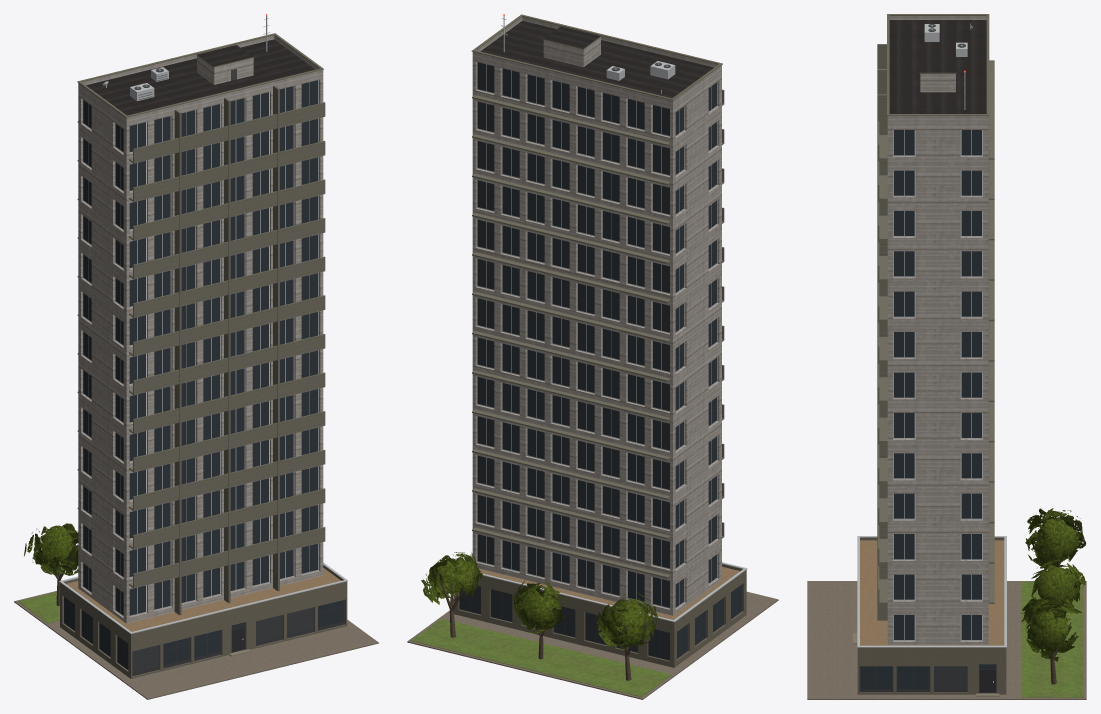
The model's file is tower_slab.glb.
3 views of the same model, side by side, from view 1: azimuth 30°, elevation 25°; view 2: azimuth 150°, elevation 25°; view 3: azimuth 270°, elevation 25° (orthographic). The views are drawn at different scales.
Visible parts, largest first — view 1: tower_slab_body, tower_slab_foliage; view 2: tower_slab_body, tower_slab_foliage; view 3: tower_slab_body, tower_slab_foliage.
Boxes of the visible parts, x1,y1,x2,y2 form: tower_slab_body: [14, 14, 378, 699]; tower_slab_foliage: [24, 523, 78, 576]; tower_slab_body: [407, 14, 778, 699]; tower_slab_foliage: [421, 552, 658, 649]; tower_slab_body: [807, 14, 1086, 699]; tower_slab_foliage: [1021, 508, 1086, 661].
Bounding box in the file's own units: 0.94 × 2.26 × 0.94.
22 materials, 11 textured.
